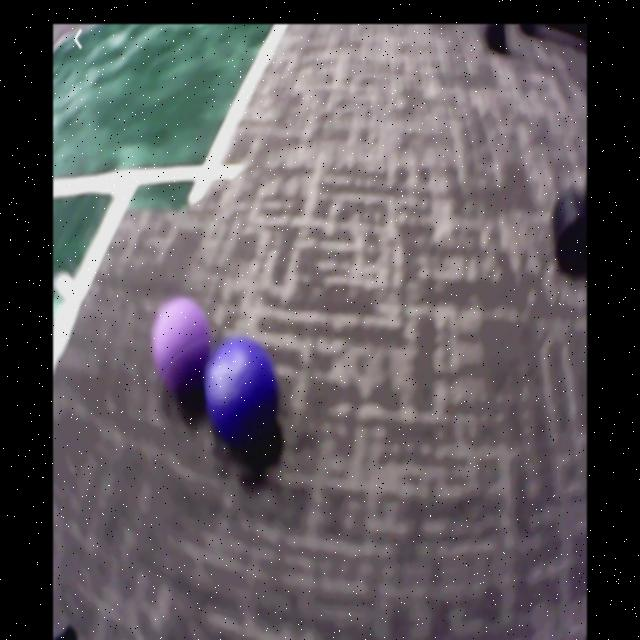ball: (207, 341, 279, 449), (153, 298, 211, 398)
